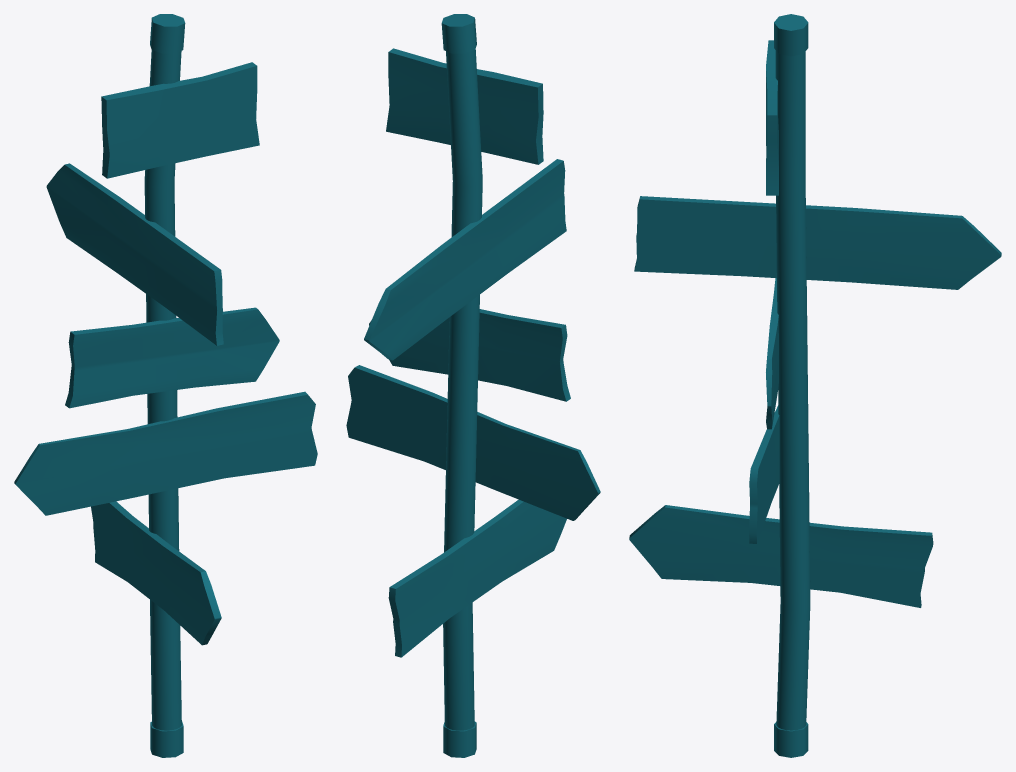
File: panneau_low.fbx
The picture shows the model from 3 angles, left to right: view 1: azimuth 30°, elevation 25°; view 2: azimuth 150°, elevation 25°; view 3: azimuth 270°, elevation 25°; orthographic projection.
Parts seen in each view (by area): view 1: panneau4_low, panneau3_low, panneau2_low, panneau1_low, poto_low, panneau5_low, boutmetal_low; view 2: poto_low, panneau4_low, panneau2_low, panneau5_low, panneau1_low, panneau3_low, boutmetal_low; view 3: panneau2_low, poto_low, panneau5_low, panneau4_low, boutmetal_low, panneau1_low, panneau3_low.
Part boxes in pixels (box(x1,y1,x2,y2)): panneau4_low: box(14, 391, 317, 515); panneau3_low: box(65, 307, 279, 408); panneau2_low: box(46, 163, 223, 345); panneau1_low: box(101, 62, 259, 178); poto_low: box(144, 50, 181, 730); panneau5_low: box(91, 501, 221, 645); boutmetal_low: box(150, 14, 185, 757); poto_low: box(443, 49, 482, 730); panneau4_low: box(346, 365, 600, 520); panneau2_low: box(364, 159, 566, 360); panneau5_low: box(388, 499, 566, 657); panneau1_low: box(386, 48, 543, 164); panneau3_low: box(369, 309, 570, 401); boutmetal_low: box(441, 14, 476, 757); panneau2_low: box(634, 196, 1001, 289); poto_low: box(775, 50, 810, 730); panneau5_low: box(629, 505, 933, 607); panneau4_low: box(749, 405, 779, 543); boutmetal_low: box(774, 14, 808, 757); panneau1_low: box(766, 40, 778, 195); panneau3_low: box(766, 278, 778, 429).
Size of the model in its own units: 73.75 by 186 by 86.12.
